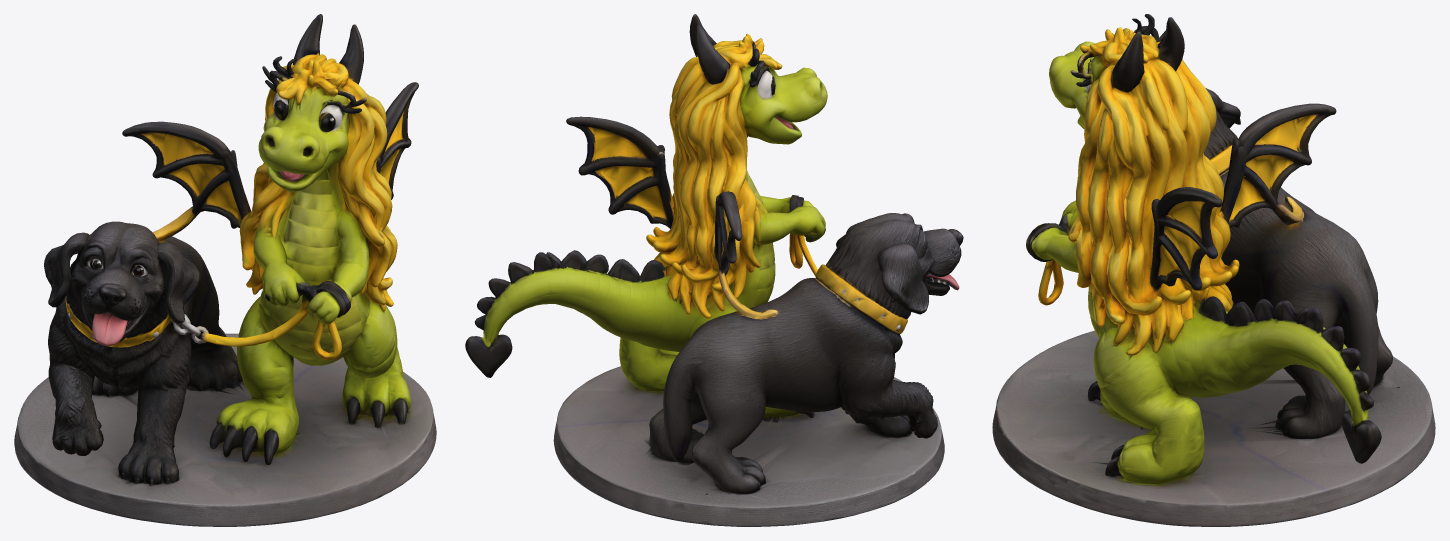
Rendered from drache.glb.
3 views of the same model, side by side, from view 1: azimuth 30°, elevation 25°; view 2: azimuth 150°, elevation 25°; view 3: azimuth 270°, elevation 25° (orthographic). The views are drawn at different scales.
Bounding box in the file's own units: 0.9805 × 0.9422 × 0.8347.
Materials: 11 (11 with a texture image).
